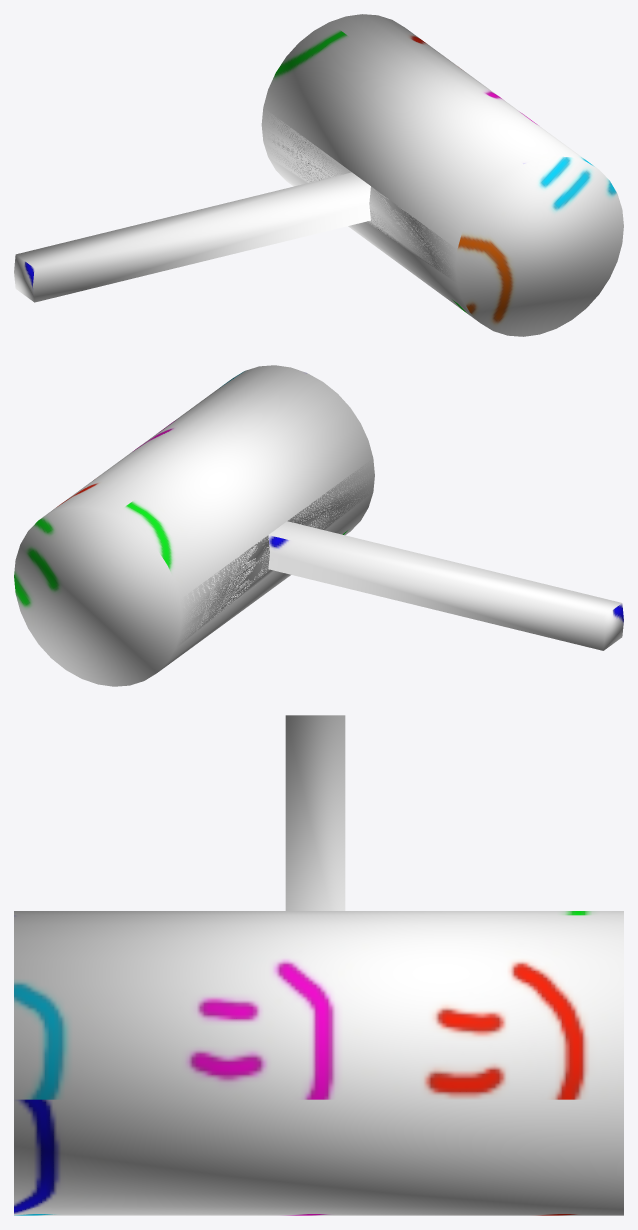
Rendered from corkscrew.obj.
The picture shows the model from 3 angles, top to bottom: view 1: azimuth 30°, elevation 25°; view 2: azimuth 150°, elevation 25°; view 3: azimuth 270°, elevation 25°; orthographic projection. The views are drawn at different scales.
Visible parts, largest first — view 1: Cylinder; view 2: Cylinder; view 3: Cylinder.
Part boxes in pixels (x1,y1,x2,y2): Cylinder: [14, 14, 623, 336]; Cylinder: [14, 365, 623, 686]; Cylinder: [14, 715, 623, 1215].
Size of the model in its own units: 6 by 2 by 4.
1 material, 1 textured.
